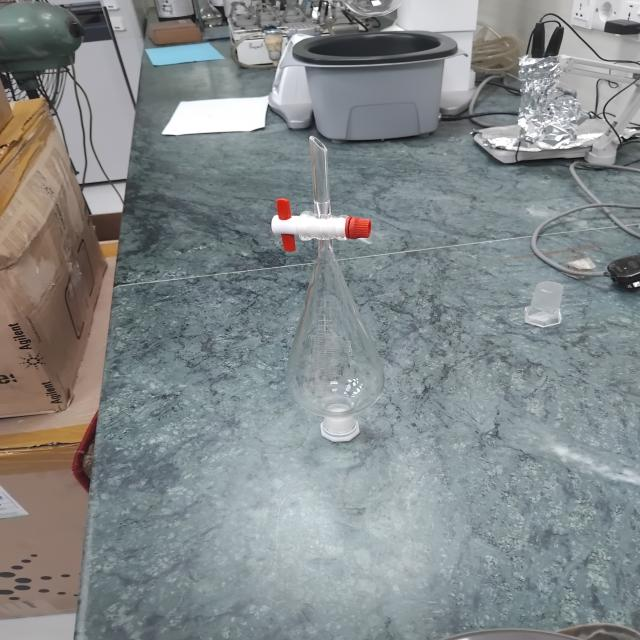Separating_Funnel: (211, 107, 432, 471)
